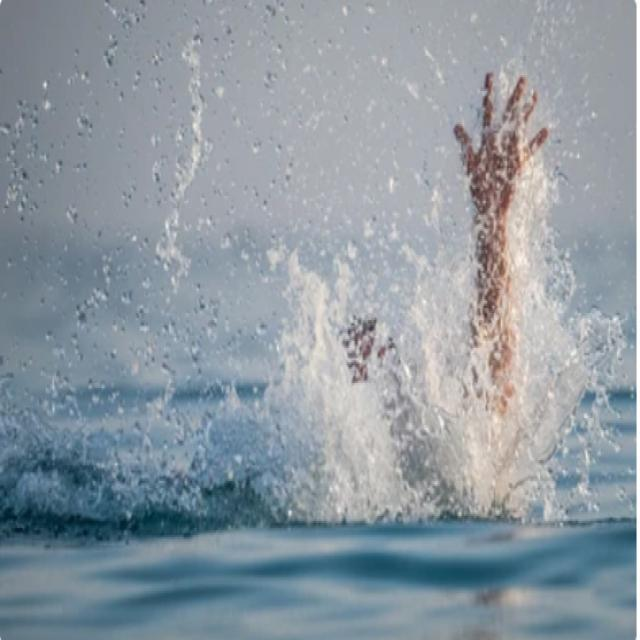Out of Water: (322, 62, 546, 458)
